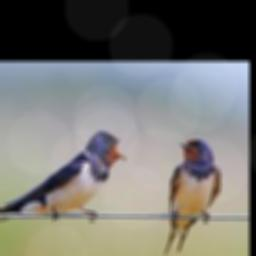Swallow: (0, 130, 129, 232), (165, 136, 220, 254)
